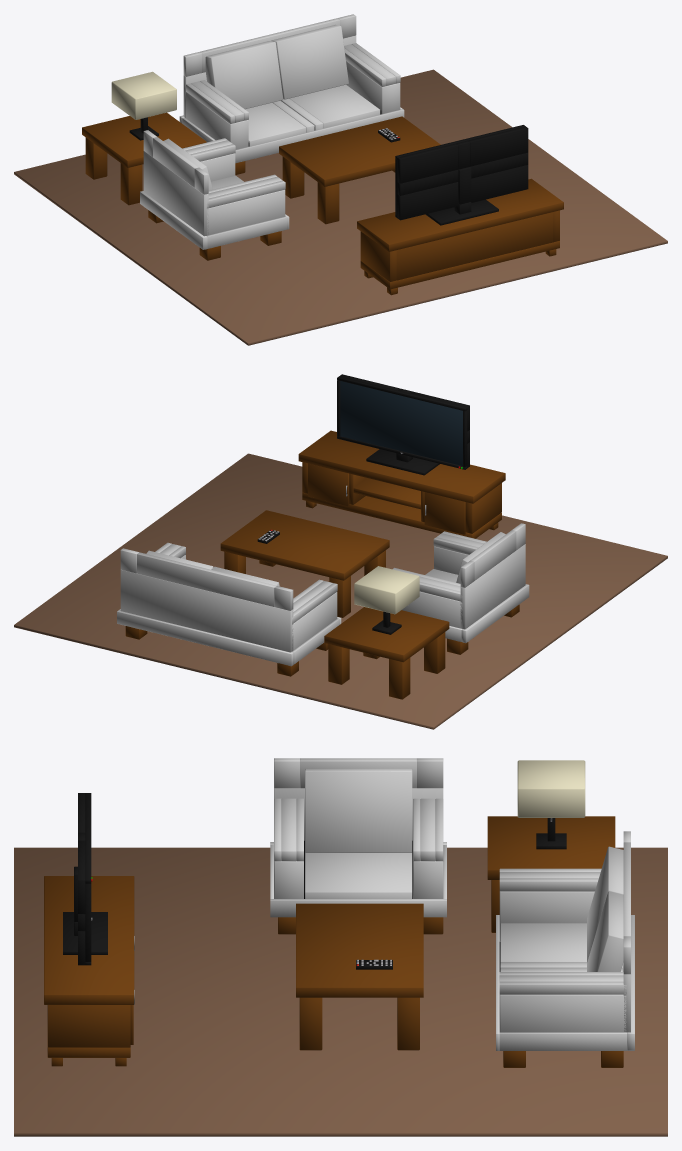
Rendered from Set_LivingRoom.glb.
The picture shows the model from 3 angles, top to bottom: view 1: azimuth 30°, elevation 25°; view 2: azimuth 150°, elevation 25°; view 3: azimuth 270°, elevation 25°; orthographic projection. The views are drawn at different scales.
Visible parts, largest first — view 1: Set_LivingRoom; view 2: Set_LivingRoom; view 3: Set_LivingRoom.
Boxes of the visible parts, box(x1,y1,x2,y2) form: Set_LivingRoom: box(14, 14, 667, 345); Set_LivingRoom: box(14, 374, 667, 729); Set_LivingRoom: box(14, 758, 667, 1136).
Size of the model in its own units: 6.3 by 1.82 by 6.09.
